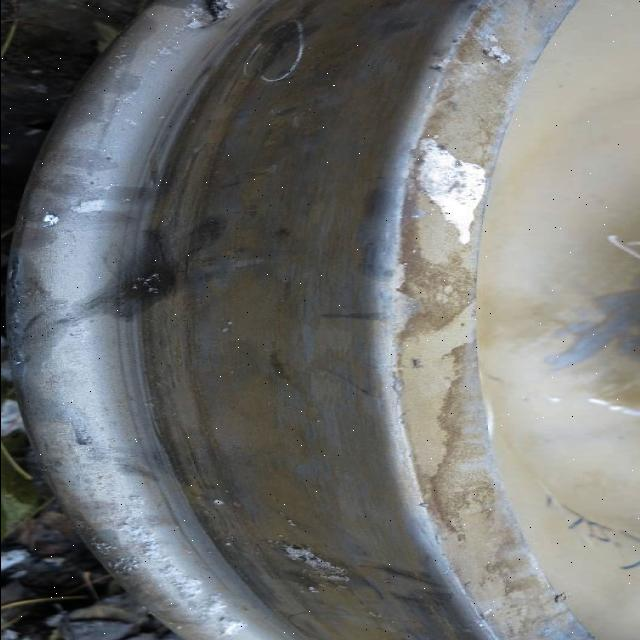hot crack: (259, 27, 293, 75)
